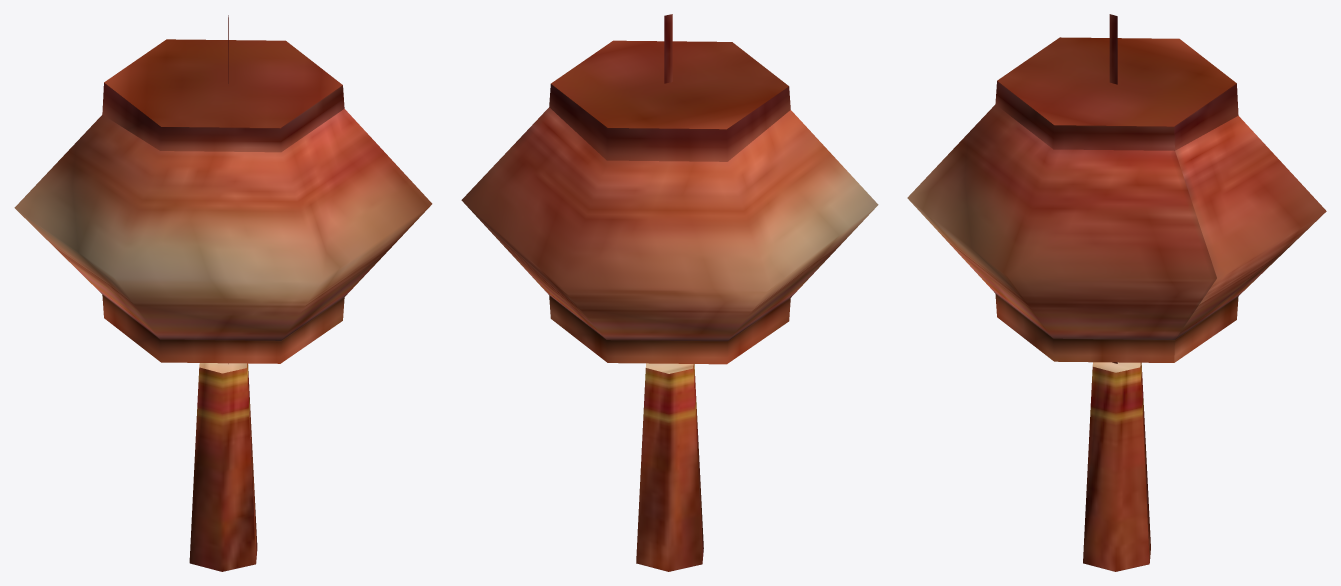
The model's file is denglong09.obj.
3 renders of one model, left to right at view 1: azimuth 30°, elevation 25°; view 2: azimuth 150°, elevation 25°; view 3: azimuth 270°, elevation 25°, orthographic.
Parts seen in each view (by area): view 1: denglong09; view 2: denglong09; view 3: denglong09.
Part boxes in pixels (x1,y1,x2,y2): denglong09: [14, 15, 432, 571]; denglong09: [461, 14, 878, 571]; denglong09: [907, 14, 1326, 571].
Bounding box in the file's own units: 9.99 × 16.21 × 11.37.
